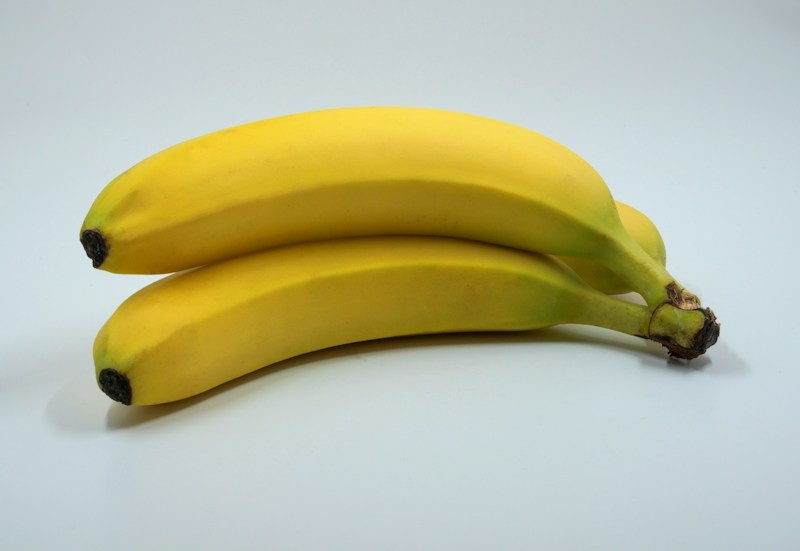banana peel: (81, 106, 719, 418)
